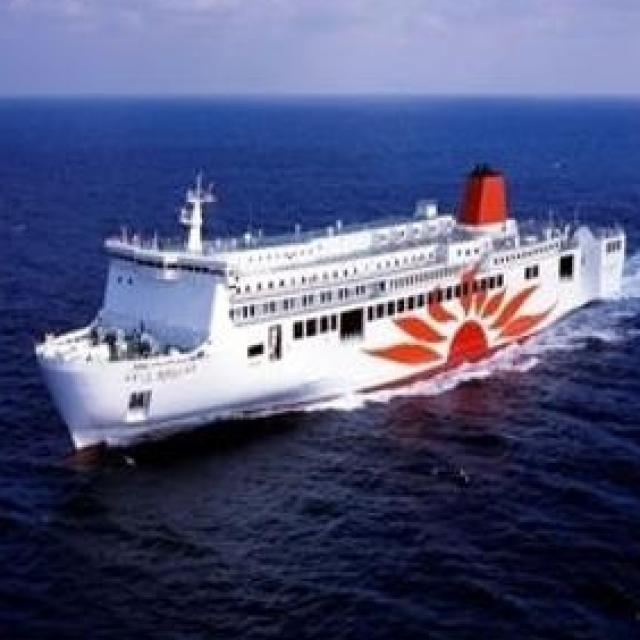passenger ship: (34, 155, 636, 449)
